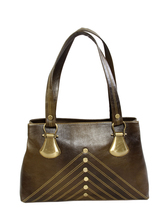bag: (10, 24, 159, 208)
